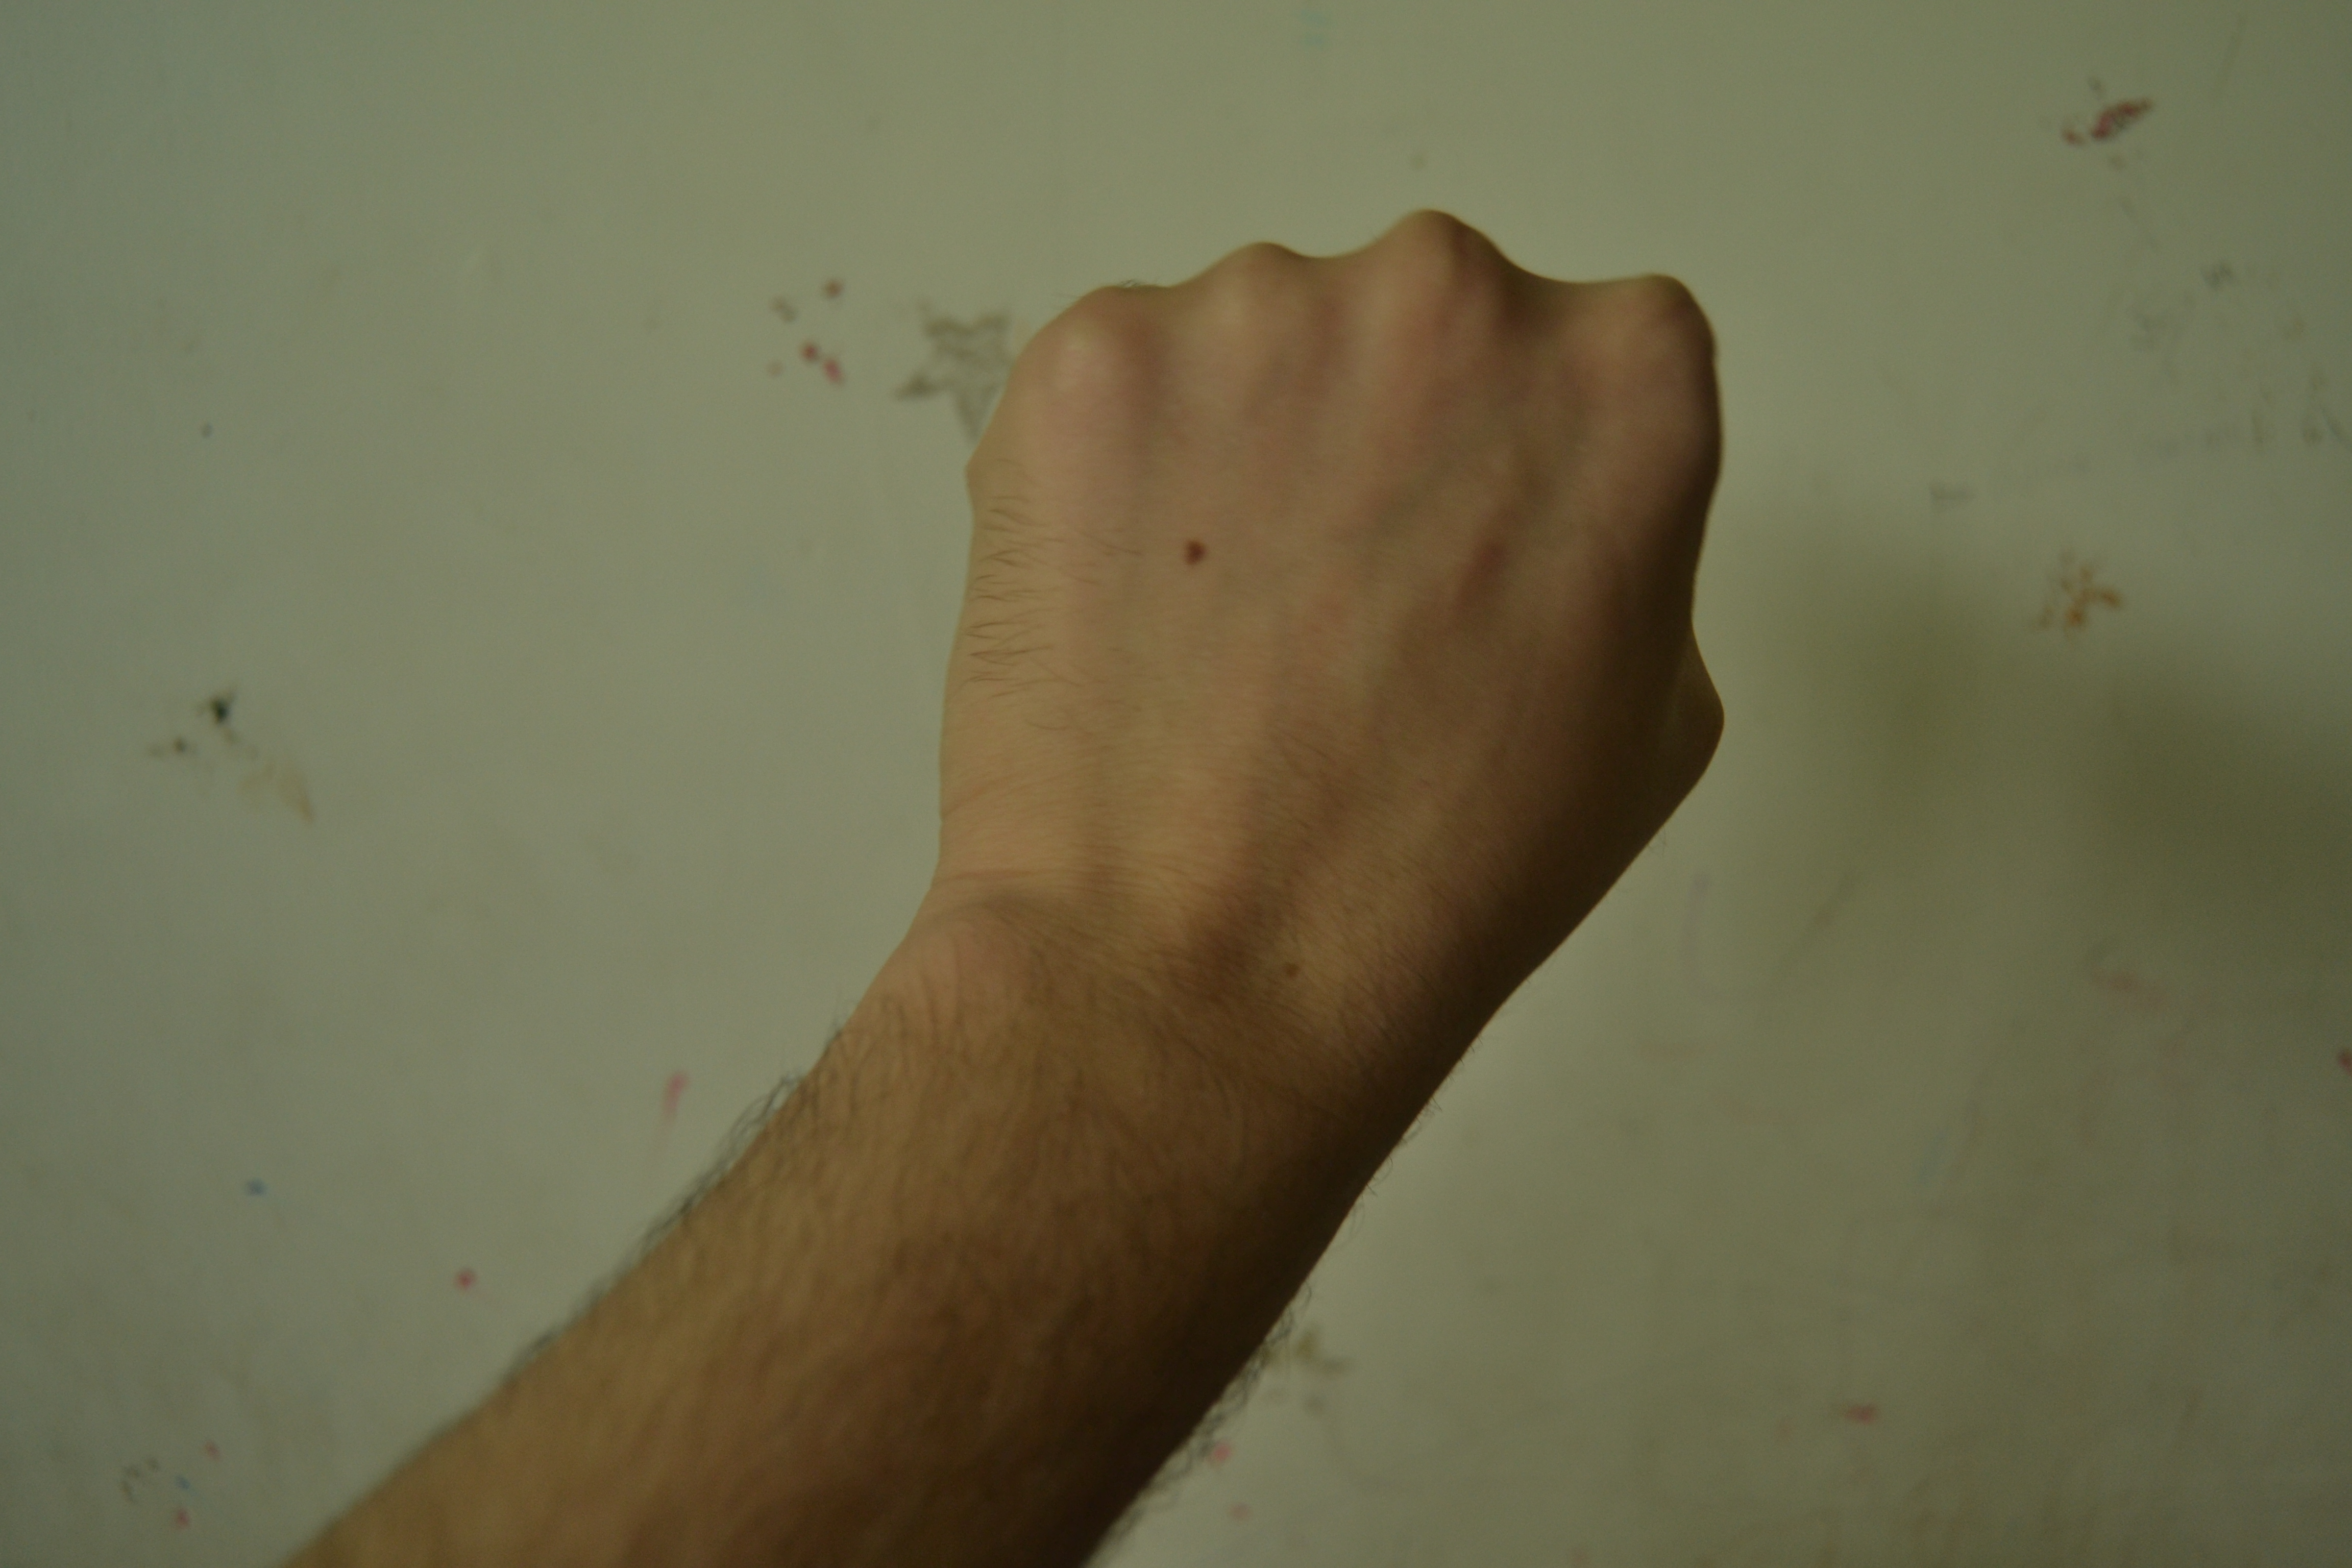click: (905, 150, 1850, 1451)
